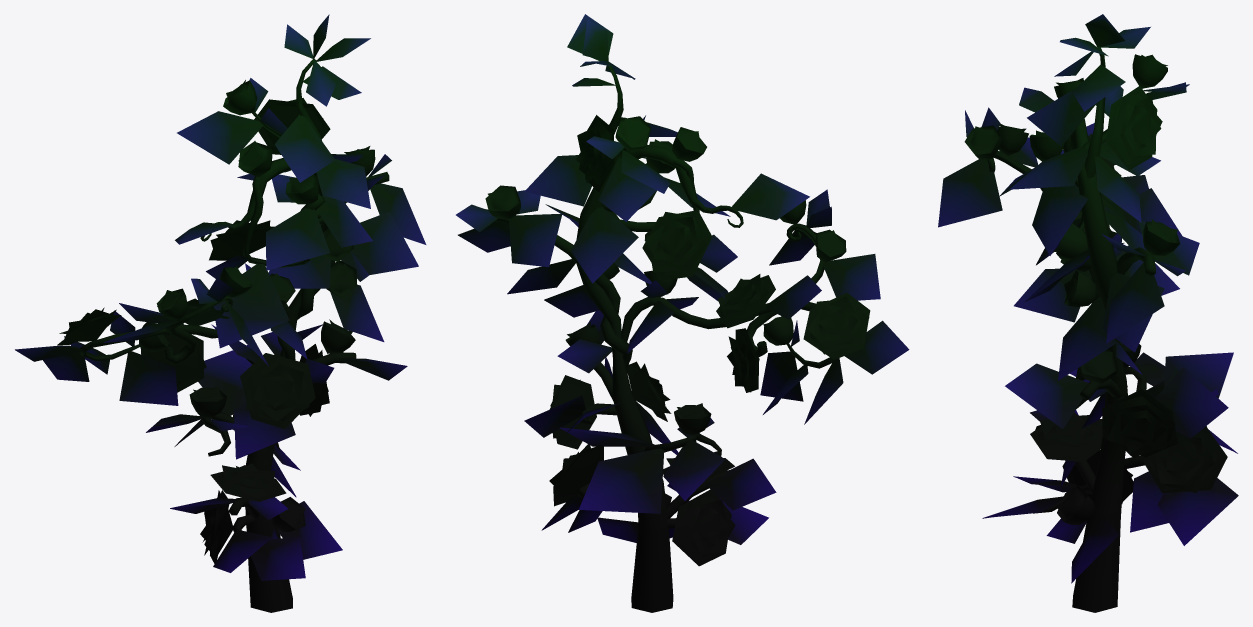
The model's file is TSI_Rose_02A.fbx.
The picture shows the model from 3 angles, left to right: view 1: azimuth 30°, elevation 25°; view 2: azimuth 150°, elevation 25°; view 3: azimuth 270°, elevation 25°; orthographic projection. The views are drawn at different scales.
Visible parts, largest first — view 1: TSI_Rose_02A_LOD0; view 2: TSI_Rose_02A_LOD0; view 3: TSI_Rose_02A_LOD0.
Boxes of the visible parts, x1,y1,x2,y2 form: TSI_Rose_02A_LOD0: (15, 14, 426, 612); TSI_Rose_02A_LOD0: (456, 14, 909, 612); TSI_Rose_02A_LOD0: (938, 14, 1238, 612).
Bounding box in the file's own units: 144 × 187 × 82.3.
